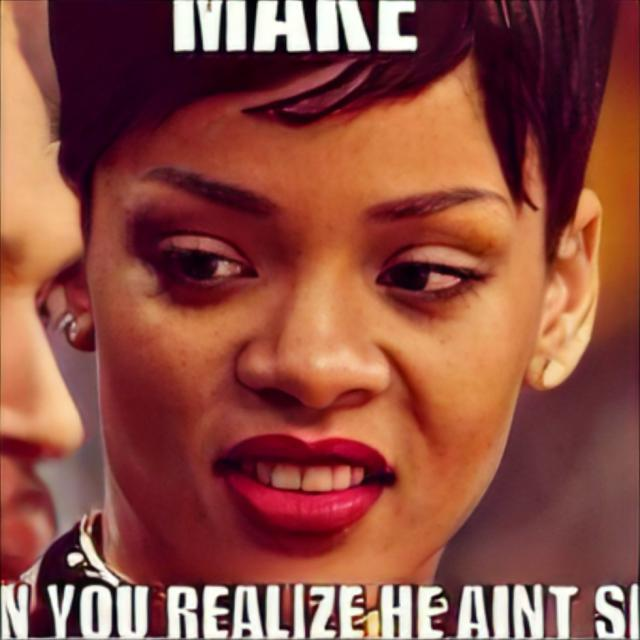disgust: (86, 54, 545, 582)
